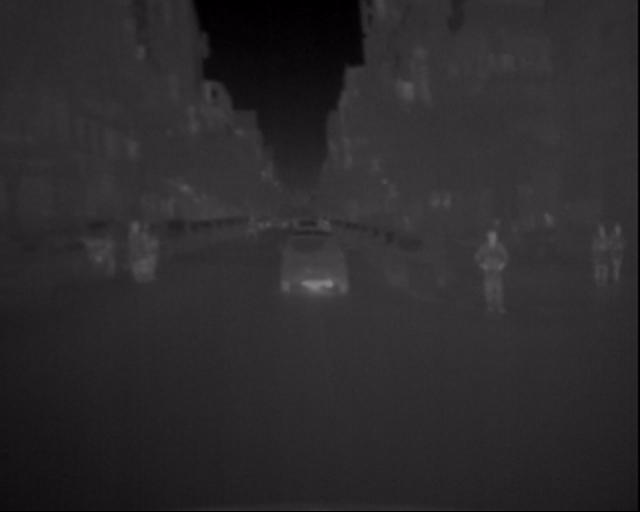person: (468, 224, 517, 320), (104, 218, 154, 297), (590, 220, 622, 297), (535, 194, 565, 263), (610, 215, 633, 297)
